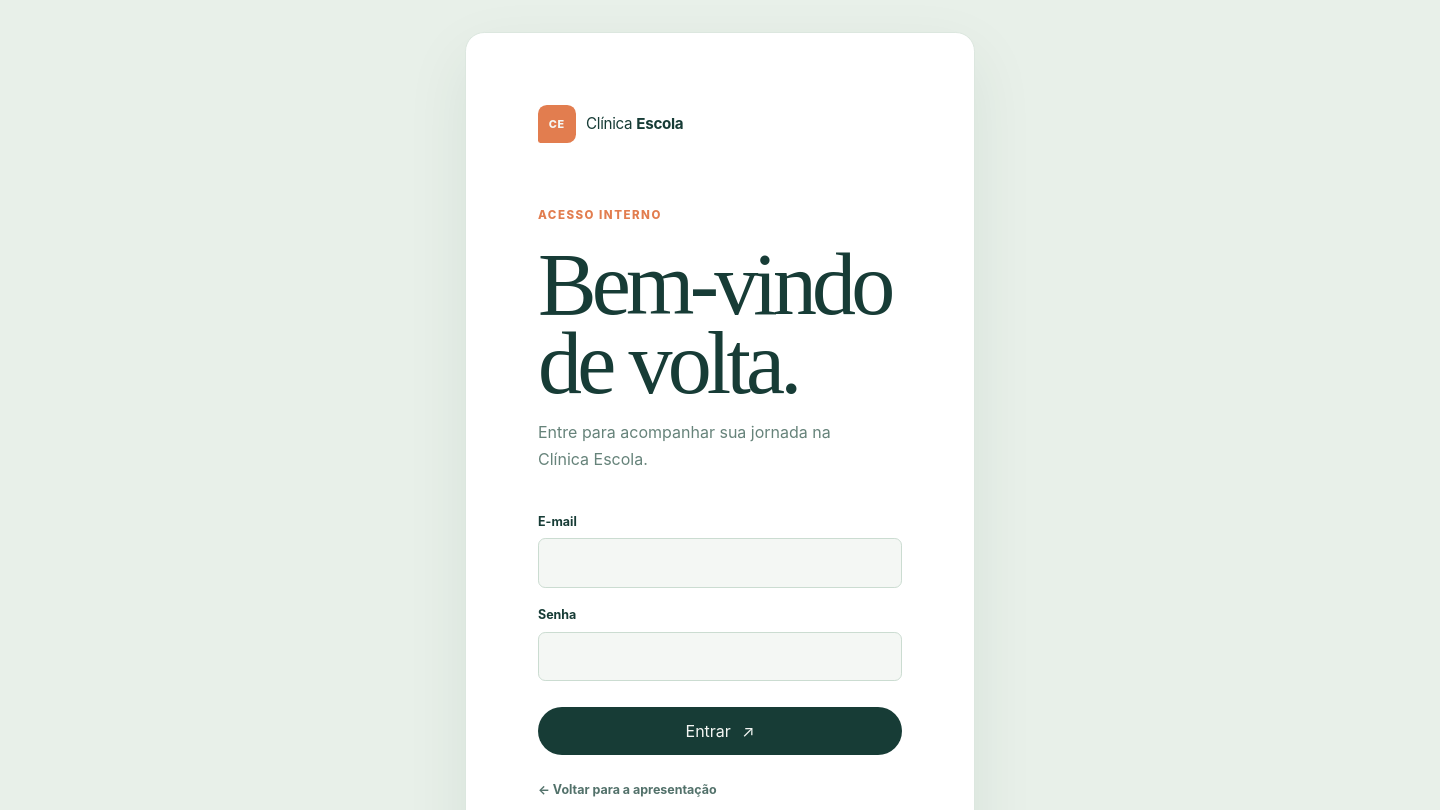
Scenario: bootstrap da Clínica Escola › autentica e mostra somente a navegacao do papel atual
Type "student@example.com" into the field labelled "E-mail" at (720, 563), box [538,538,902,588]
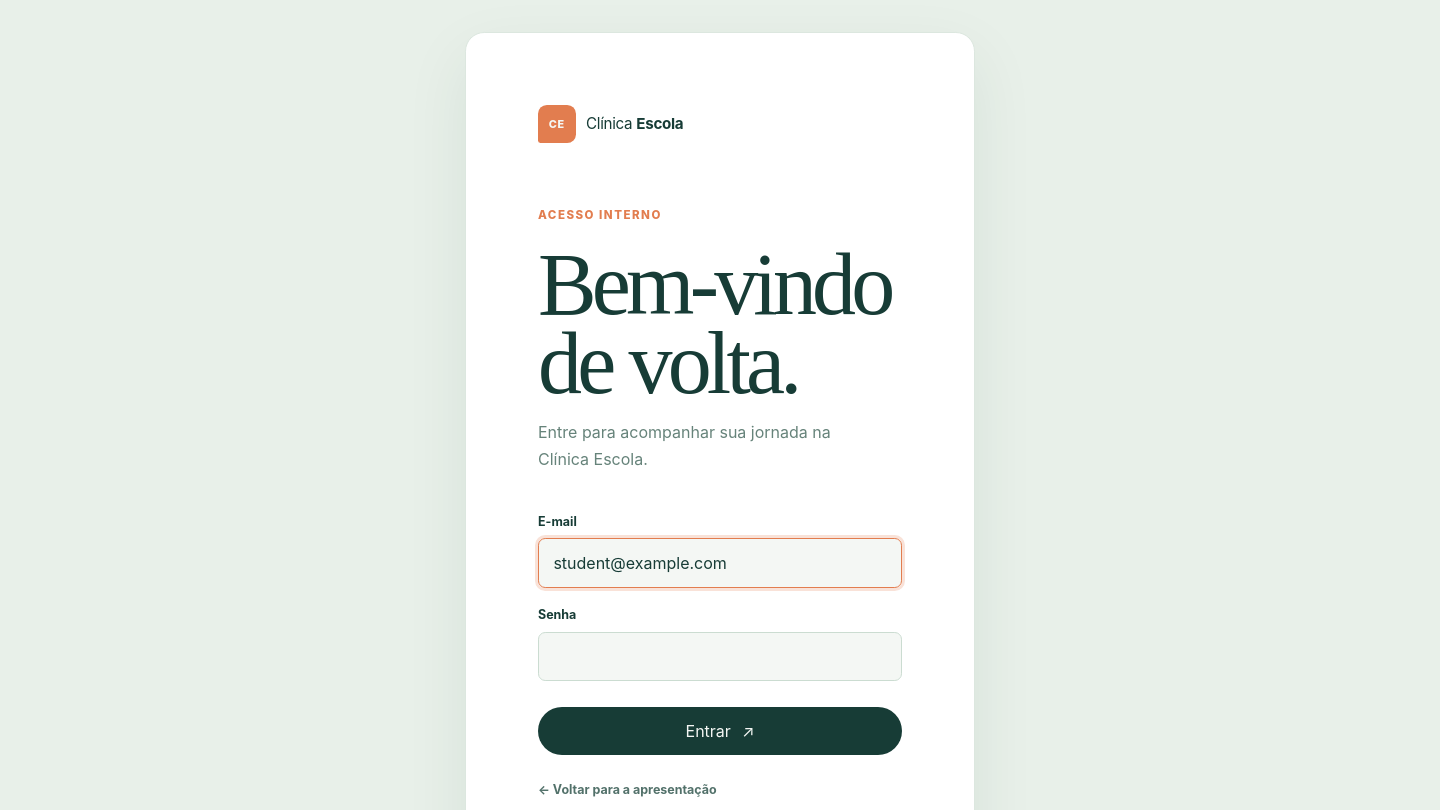
Type "StudentDemo!2026" into the password field labelled "Senha" at (720, 657), box [538,632,902,681]
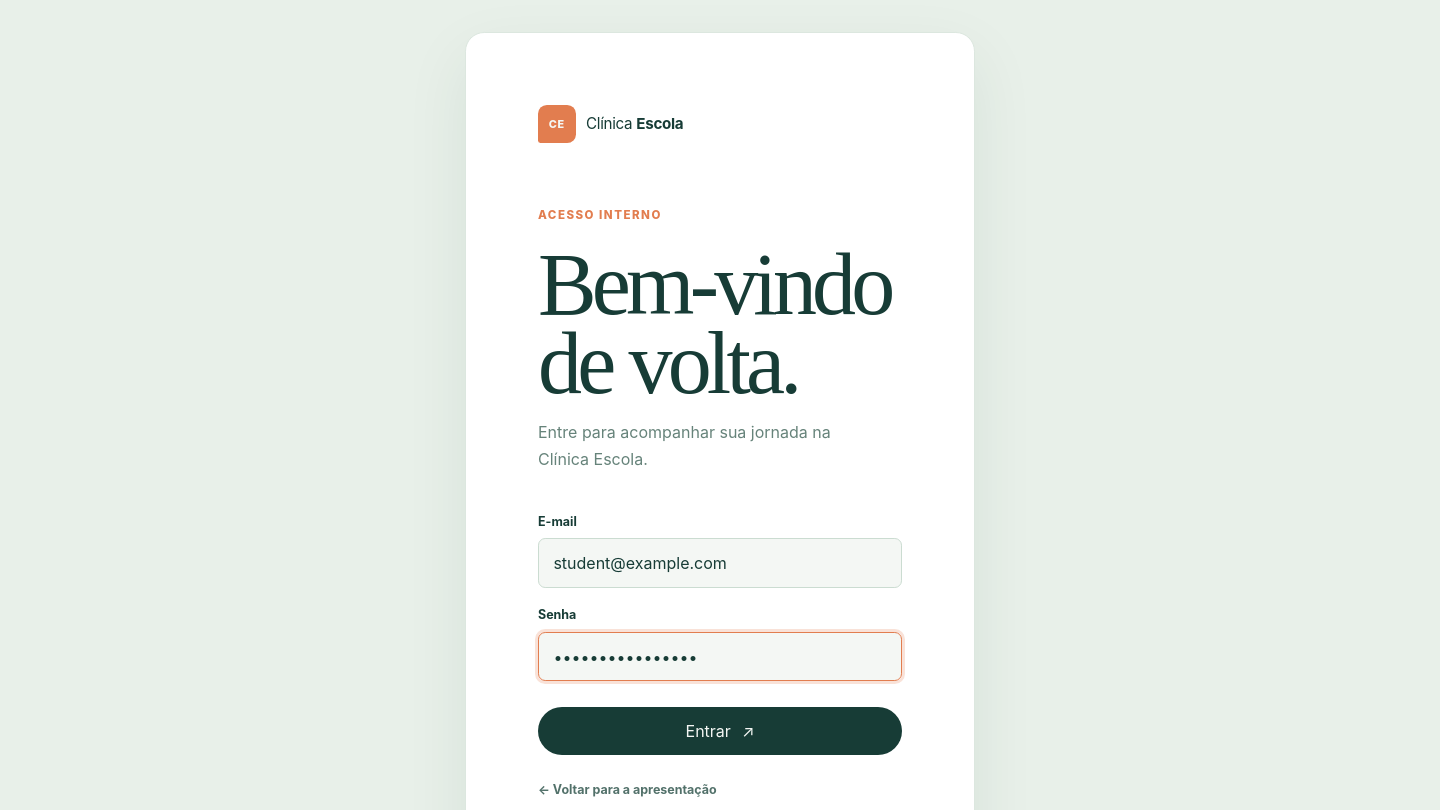
Click the button "Entrar" at (720, 731), box [538,707,902,755]
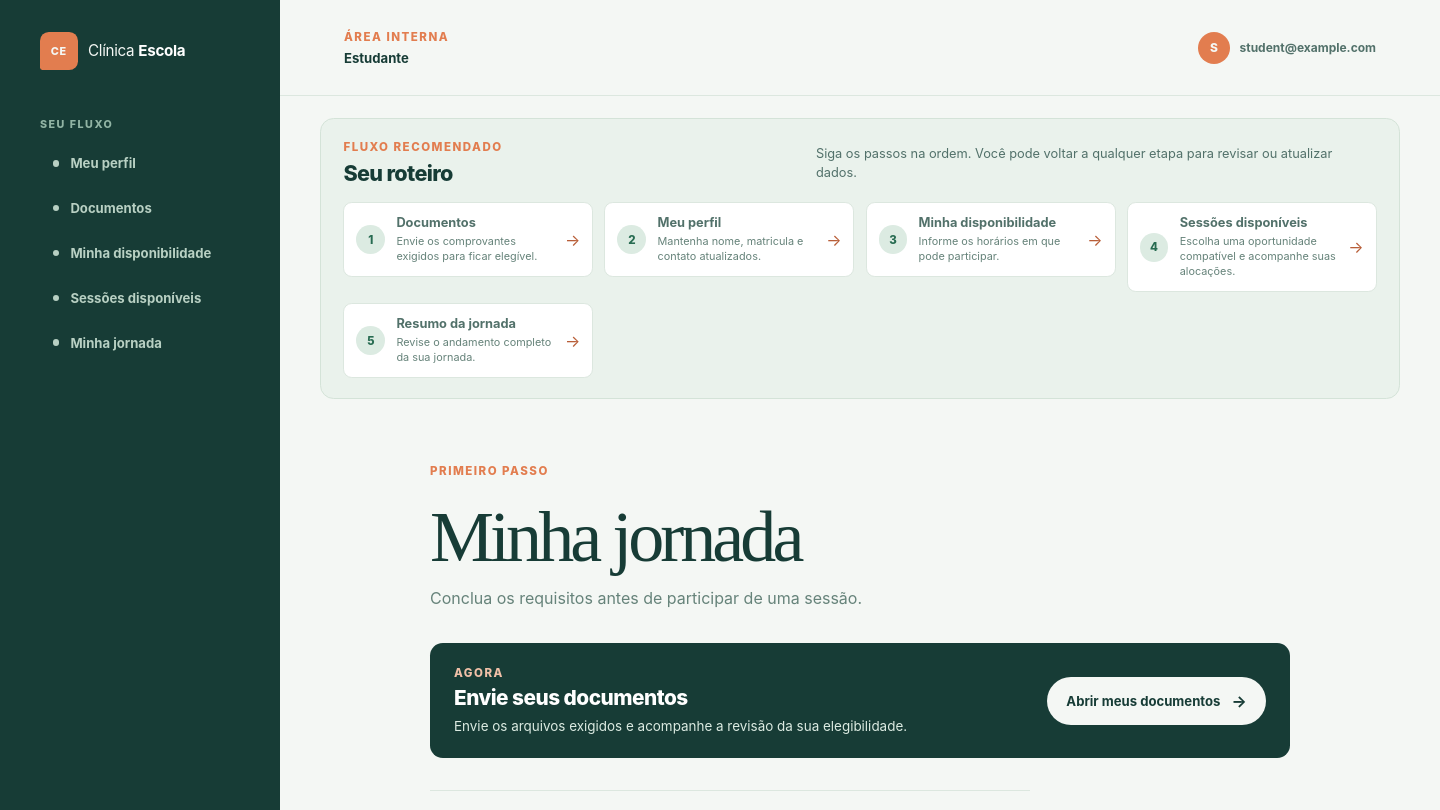
expect the heading "Minha jornada" is shown: met, box [430,496,800,576]
expect the link "Documentos" is shown: met, box [53,200,152,216]
